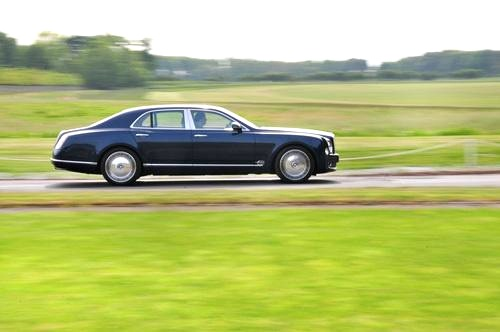car: (36, 99, 352, 205)
